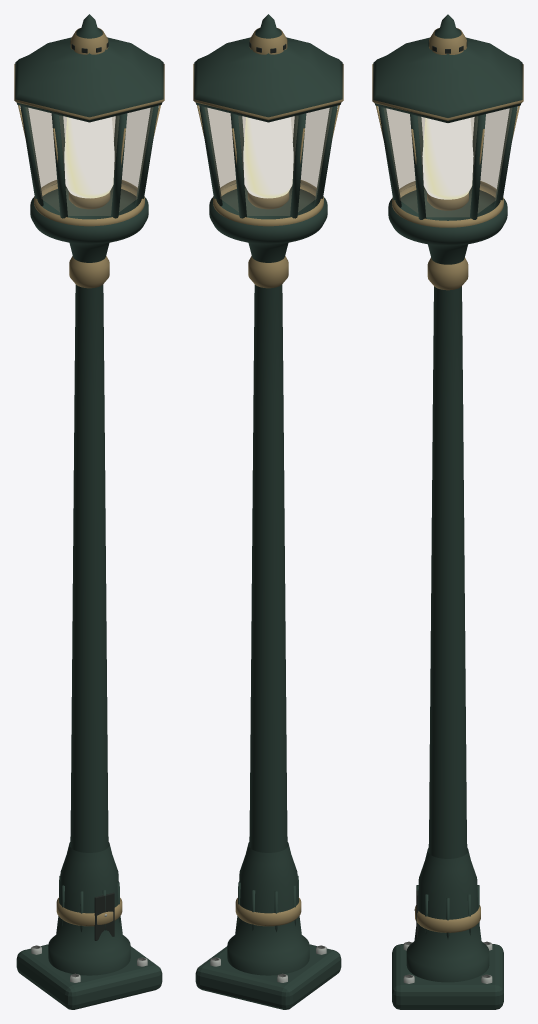
Rendered from lamp.glb.
3 renders of one model, left to right at view 1: azimuth 30°, elevation 25°; view 2: azimuth 150°, elevation 25°; view 3: azimuth 270°, elevation 25°, orthographic.
Parts seen in each view (by area): view 1: Lamp evergreen cast metal, Lamp warm glass, Lamp brushed bronze, Lamp warm opal light, Lamp dark recesses; view 2: Lamp evergreen cast metal, Lamp warm glass, Lamp brushed bronze, Lamp warm opal light; view 3: Lamp evergreen cast metal, Lamp warm glass, Lamp brushed bronze, Lamp warm opal light.
Part boxes in pixels (x1,y1,x2,y2): Lamp evergreen cast metal: (15, 14, 163, 1009); Lamp warm glass: (25, 107, 152, 215); Lamp brushed bronze: (14, 28, 164, 926); Lamp warm opal light: (64, 117, 114, 198); Lamp dark recesses: (70, 40, 114, 940); Lamp evergreen cast metal: (194, 14, 342, 1009); Lamp warm glass: (205, 107, 332, 215); Lamp brushed bronze: (193, 28, 343, 926); Lamp warm opal light: (243, 117, 293, 198); Lamp evergreen cast metal: (373, 14, 522, 1009); Lamp warm glass: (384, 108, 511, 216); Lamp brushed bronze: (372, 28, 523, 932); Lamp warm opal light: (422, 118, 473, 199).
Bounding box in the file's own units: 0.718 × 4.43 × 0.6218.
